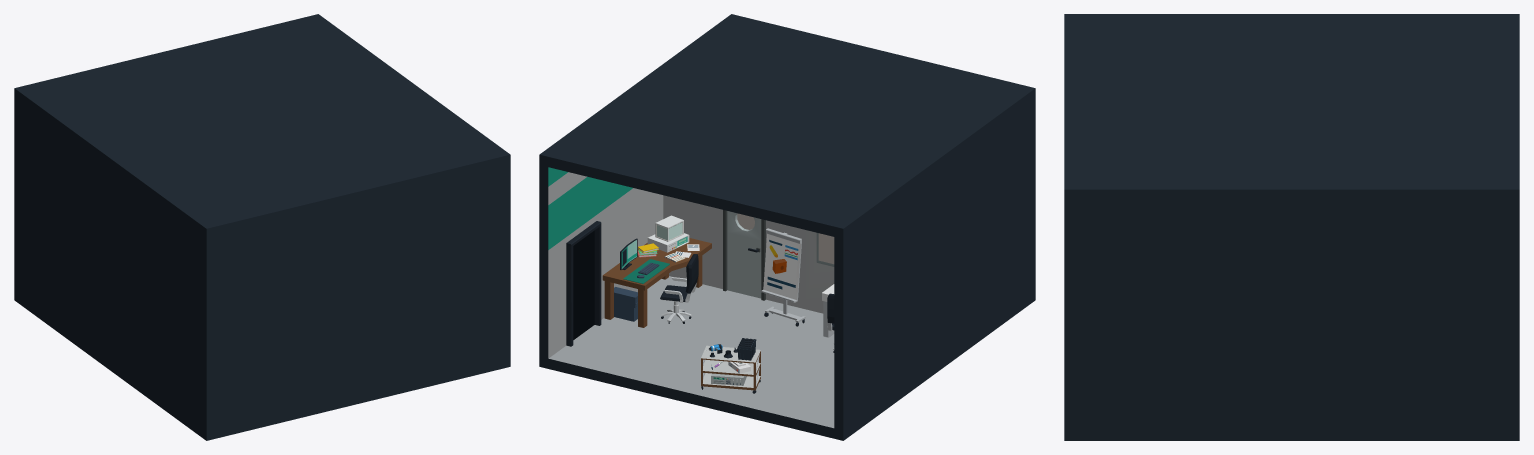
Rendered from Room_research_002.fbx.
The picture shows the model from 3 angles, left to right: view 1: azimuth 30°, elevation 25°; view 2: azimuth 150°, elevation 25°; view 3: azimuth 270°, elevation 25°; orthographic projection. The views are drawn at different scales.
Parts seen in each view (by area): view 1: Room_Tiny_001.006, Room_Tiny_001.005; view 2: Room_Tiny_001.005, Room_Tiny_001.006; view 3: Room_Tiny_001.005, Room_Tiny_001.006.
Part boxes in pixels (x1,y1,x2,y2): Room_Tiny_001.006: (129,98,510,440); Room_Tiny_001.005: (14,14,432,383); Room_Tiny_001.005: (539,70,958,440); Room_Tiny_001.006: (654,14,1035,356); Room_Tiny_001.005: (1248,14,1519,440); Room_Tiny_001.006: (1064,14,1247,440).
Bounding box in the file's own units: 600 × 400 × 657.
